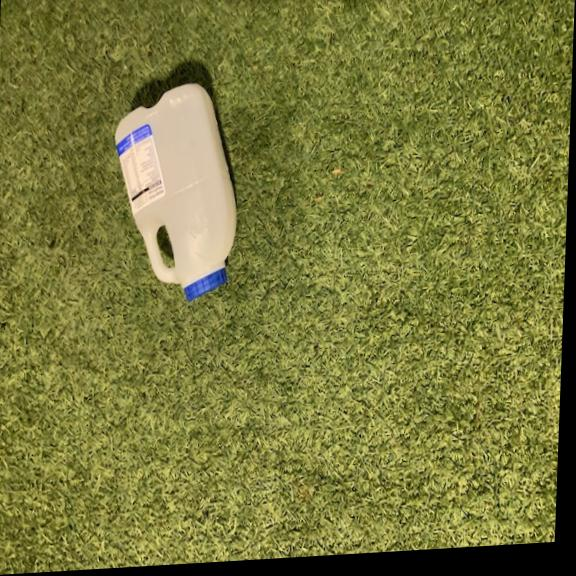Plastik: (106, 75, 243, 308)
